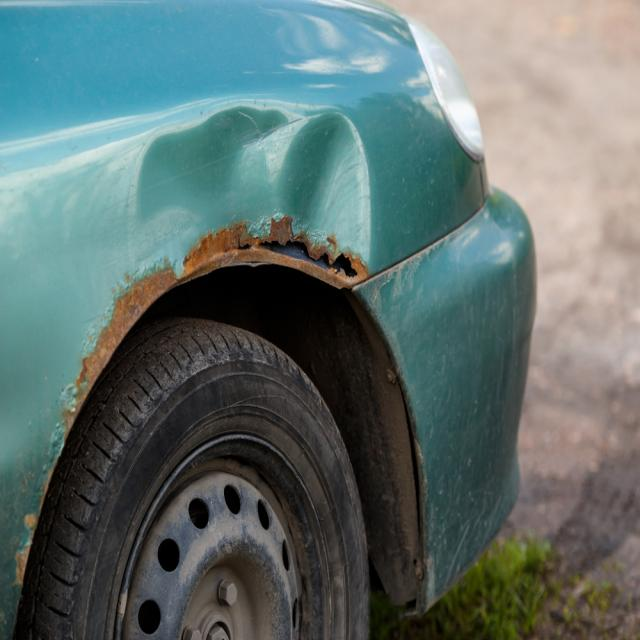Cabossage: (118, 108, 380, 265)
Dechirure: (231, 219, 366, 299)
Rayure: (51, 212, 371, 419)
